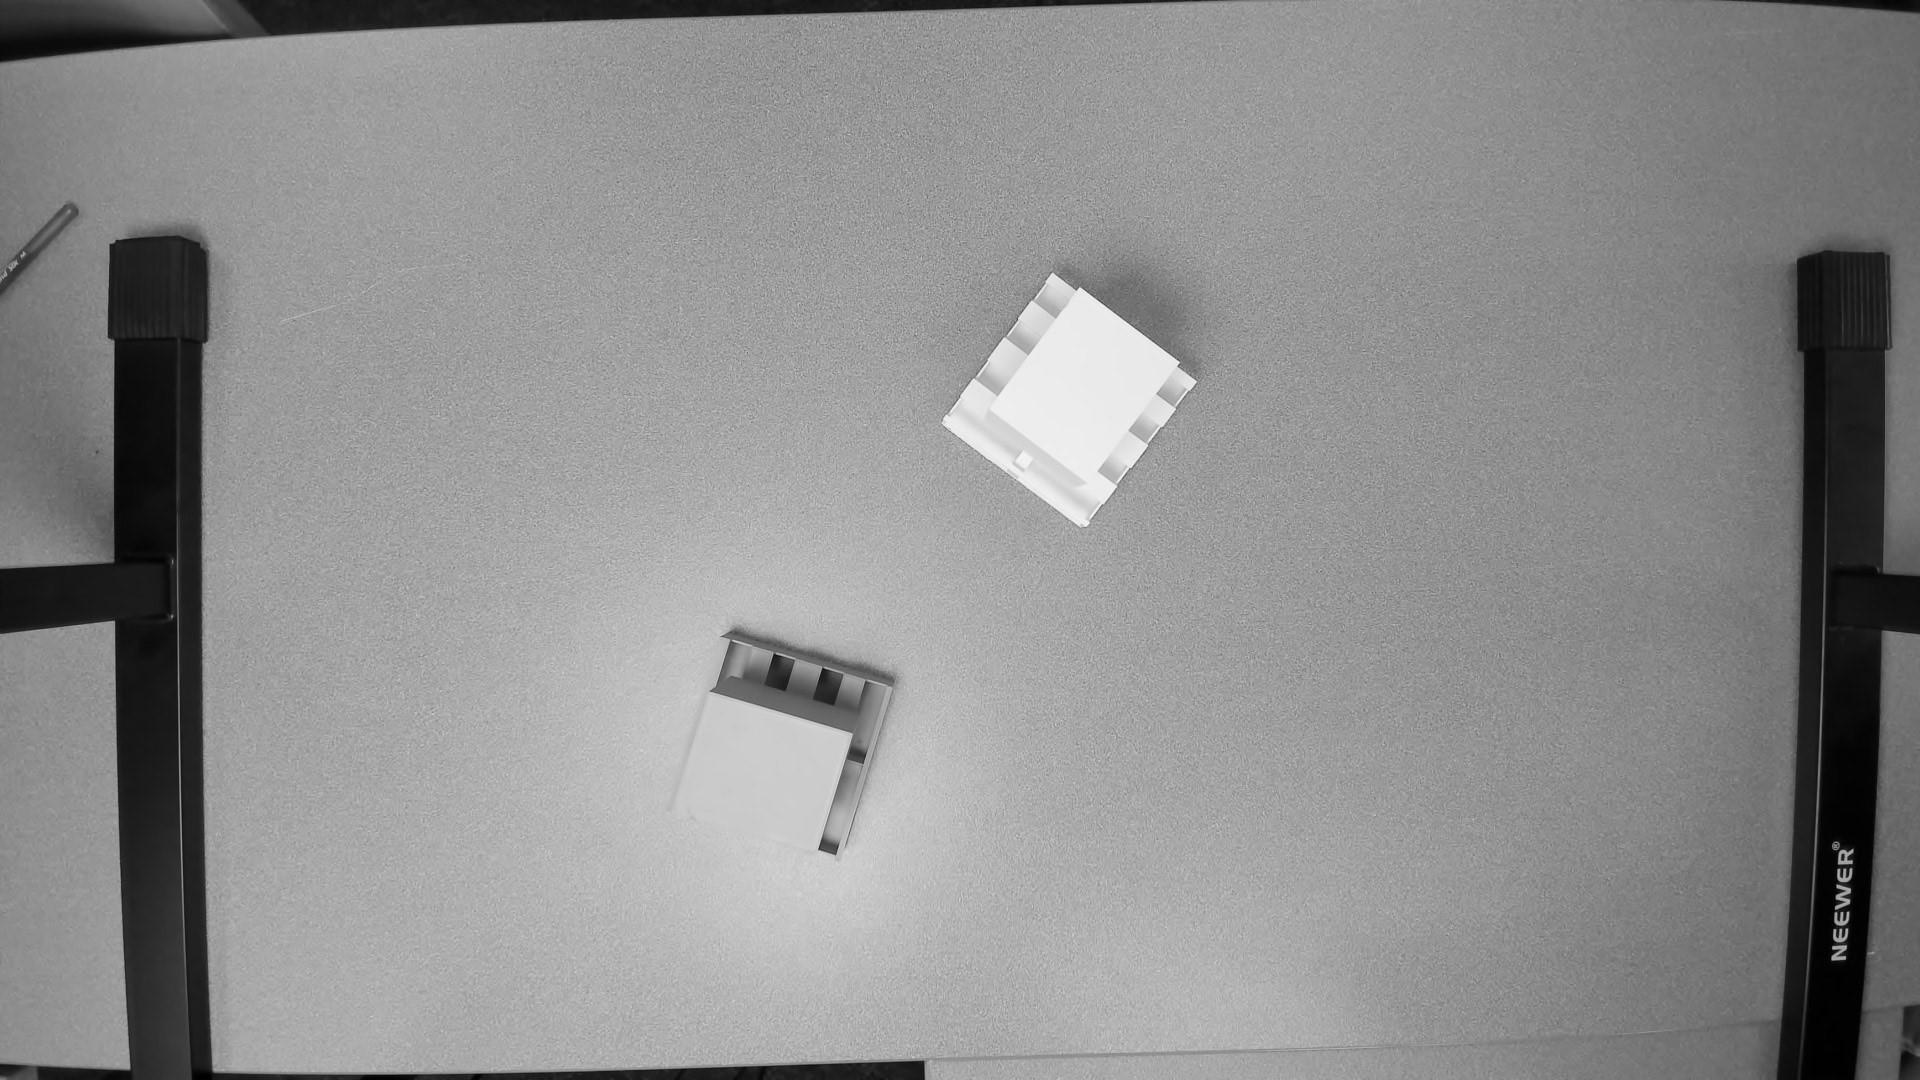grey pallet: (657, 616, 898, 869)
white pallet: (923, 262, 1199, 531)
